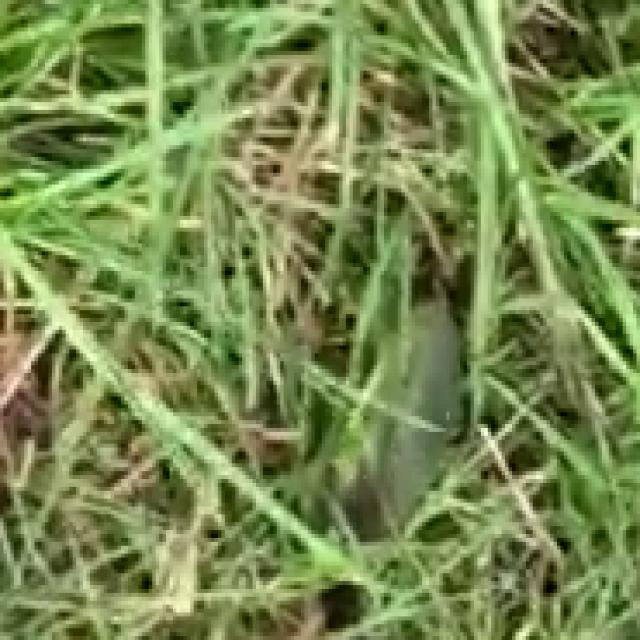organic waste: (228, 169, 512, 577)
